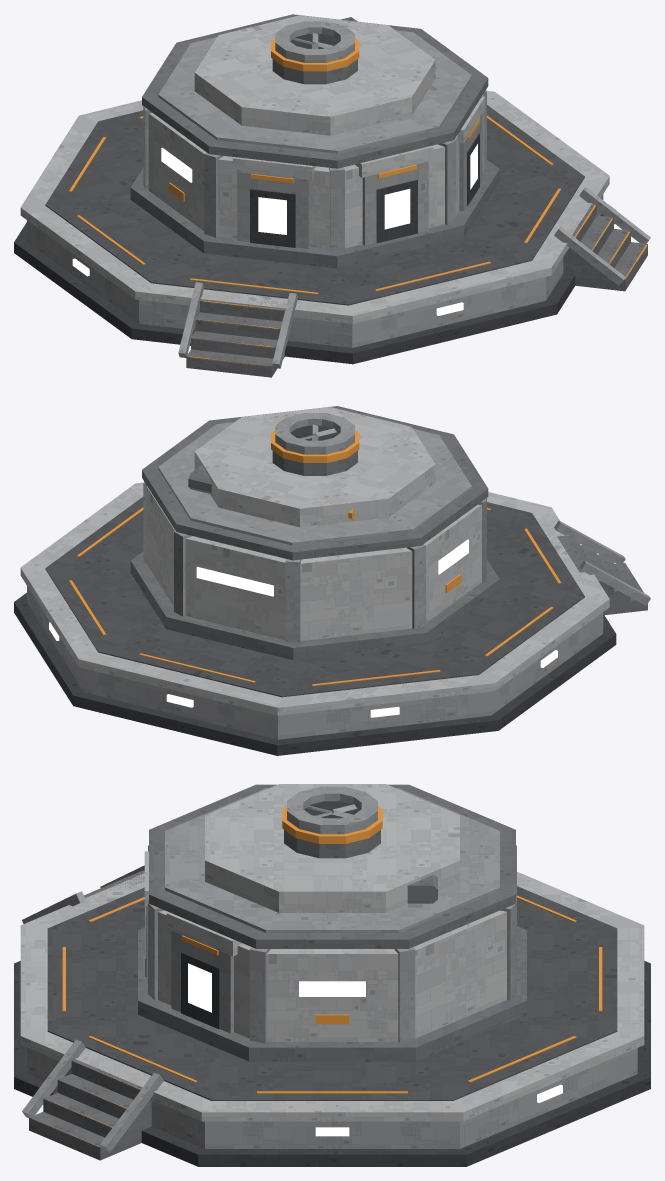
Rendered from habitat_lod1.glb.
3 views of the same model, one above another, from view 1: azimuth 30°, elevation 25°; view 2: azimuth 150°, elevation 25°; view 3: azimuth 270°, elevation 25° (orthographic). The views are drawn at different scales.
Visible parts, largest first — view 1: habitat_base_body.001, habitat_base_trim.001, habitat_base_glow.001; view 2: habitat_base_body.001, habitat_base_trim.001, habitat_base_glow.001; view 3: habitat_base_body.001, habitat_base_trim.001, habitat_base_glow.001.
Part boxes in pixels (left/top/right/bottom): habitat_base_body.001: left=14, top=14, right=650, bottom=377; habitat_base_trim.001: left=69, top=38, right=647, bottom=366; habitat_base_glow.001: left=72, top=144, right=477, bottom=315; habitat_base_body.001: left=14, top=406, right=650, bottom=755; habitat_base_trim.001: left=69, top=430, right=635, bottom=686; habitat_base_glow.001: left=49, top=539, right=557, bottom=717; habitat_base_body.001: left=14, top=784, right=650, bottom=1166; habitat_base_trim.001: left=31, top=806, right=602, bottom=1146; habitat_base_glow.001: left=145, top=906, right=562, bottom=1136.
Bounding box in the file's own units: 3.8 × 1.49 × 3.8.
Materials: 3 (1 with a texture image).
